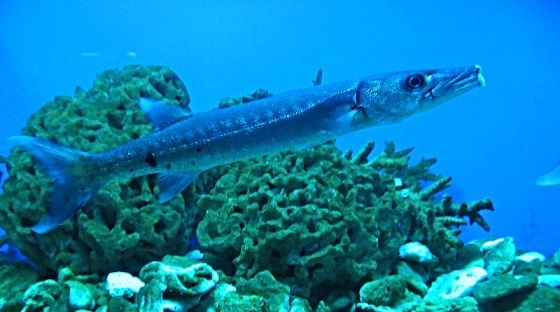fish: (10, 64, 486, 233)
